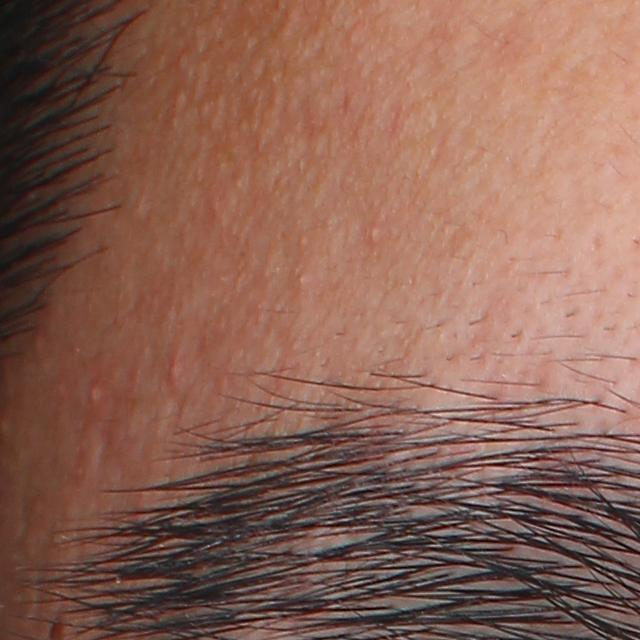comedo: (364, 222, 381, 242)
papule: (162, 356, 182, 386)
